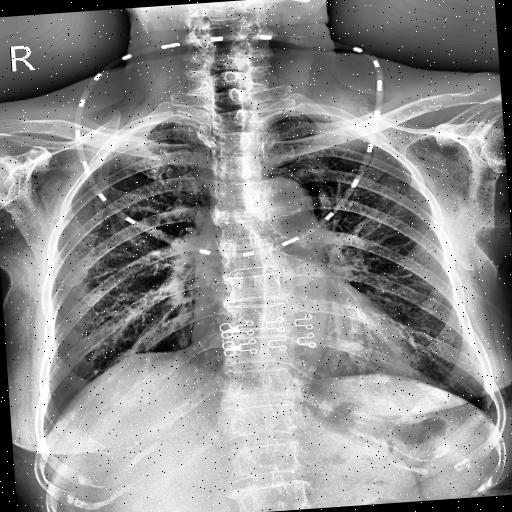0- Aortic enlargement: (250, 172, 320, 256), (244, 174, 322, 242), (241, 174, 316, 223)
3- Cardiomegaly: (186, 305, 424, 403)
